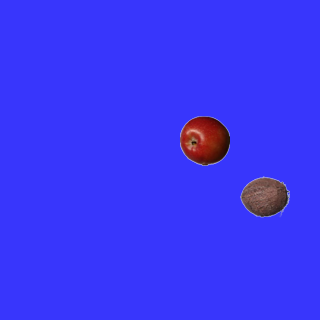Apple Braeburn: (179, 115, 229, 165)
Cocos: (239, 171, 289, 221)
